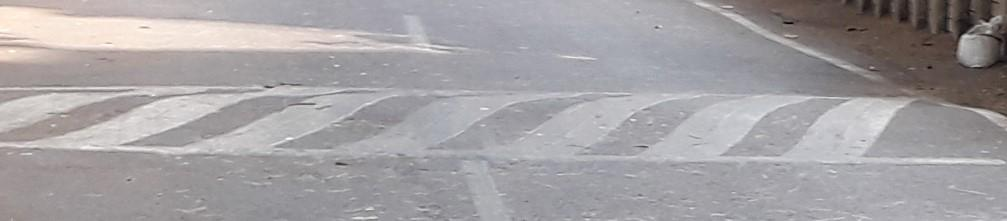speed-bump: (0, 79, 1007, 168)
